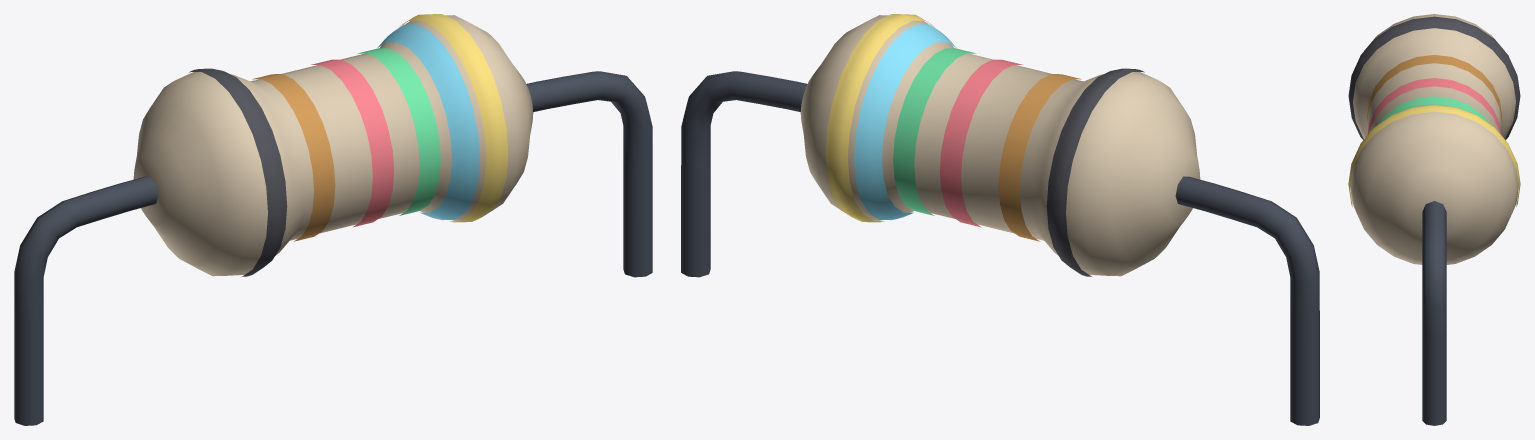
The model's file is resistor.glb.
3 renders of one model, left to right at view 1: azimuth 30°, elevation 25°; view 2: azimuth 150°, elevation 25°; view 3: azimuth 270°, elevation 25°, orthographic. The views are drawn at different scales.
Visible parts, largest first — view 1: ResistorVisual_Body, ResistorVisual_Leads, band_6, band_4, band_1, band_3, band_5, band_2; view 2: ResistorVisual_Body, ResistorVisual_Leads, band_6, band_4, band_1, band_5, band_3, band_2; view 3: ResistorVisual_Body, ResistorVisual_Leads, band_1, band_4, band_2, band_3, band_5.
Boxes of the visible parts, x1=… form: ResistorVisual_Body: x1=133, y1=15, x2=533, y2=276; ResistorVisual_Leads: x1=14, y1=71, x2=652, y2=425; band_6: x1=377, y1=24, x2=479, y2=220; band_4: x1=400, y1=14, x2=508, y2=222; band_1: x1=189, y1=68, x2=287, y2=276; band_3: x1=311, y1=59, x2=394, y2=227; band_5: x1=357, y1=48, x2=440, y2=215; band_2: x1=252, y1=74, x2=335, y2=241; ResistorVisual_Body: x1=800, y1=15, x2=1200, y2=276; ResistorVisual_Leads: x1=681, y1=71, x2=1319, y2=425; band_6: x1=854, y1=24, x2=956, y2=220; band_4: x1=825, y1=14, x2=933, y2=222; band_1: x1=1046, y1=68, x2=1144, y2=276; band_5: x1=893, y1=48, x2=976, y2=215; band_3: x1=939, y1=59, x2=1022, y2=227; band_2: x1=998, y1=74, x2=1081, y2=241; ResistorVisual_Body: x1=1350, y1=14, x2=1518, y2=264; ResistorVisual_Leads: x1=1422, y1=201, x2=1446, y2=425; band_1: x1=1348, y1=16, x2=1520, y2=139; band_4: x1=1348, y1=104, x2=1520, y2=206; band_2: x1=1367, y1=55, x2=1501, y2=122; band_3: x1=1367, y1=78, x2=1501, y2=134; band_5: x1=1378, y1=96, x2=1490, y2=124.
Size of what is drawn, in the model's own units: 3.13 by 1.4 by 0.9127.
